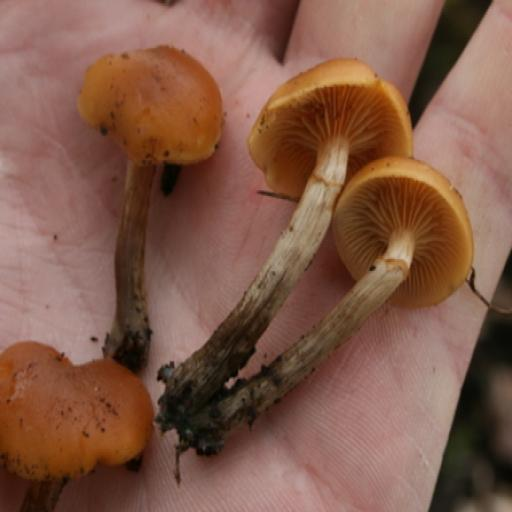Funeral Bell: (163, 58, 474, 454), (76, 39, 227, 360), (0, 343, 154, 507)
